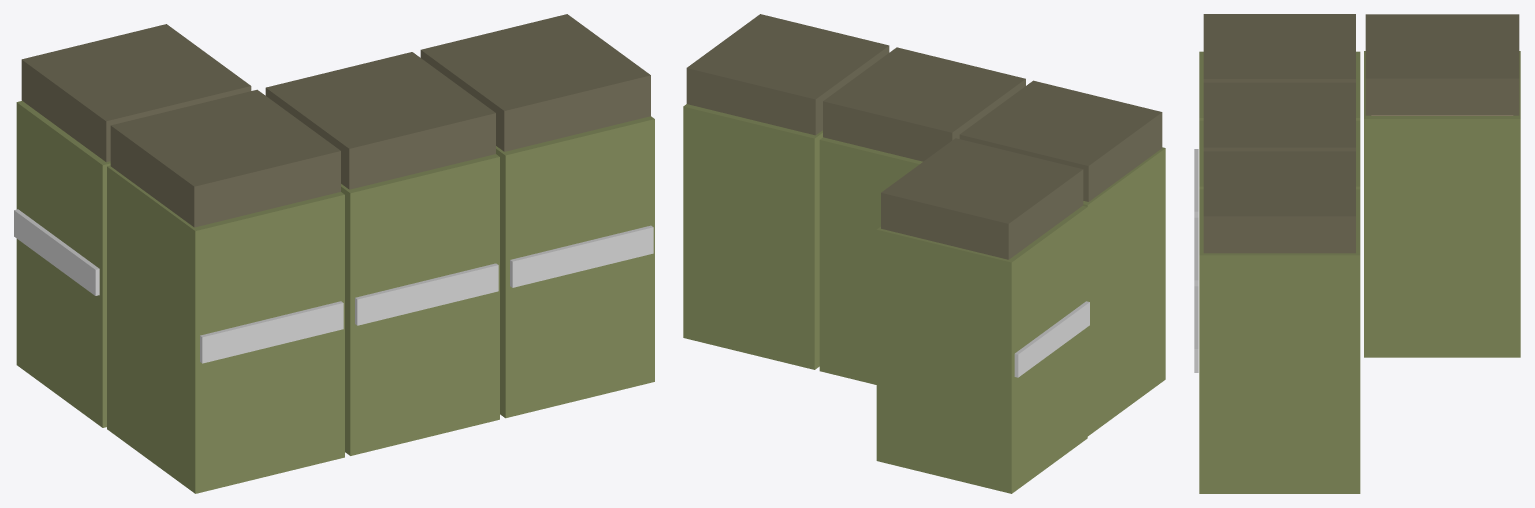
Rendered from SM_HescoRemate_v3_RemateSacos_e0_Sano_LOD1.fbx.
3 views of the same model, side by side, from view 1: azimuth 30°, elevation 25°; view 2: azimuth 150°, elevation 25°; view 3: azimuth 270°, elevation 25° (orthographic). The views are drawn at different scales.
Visible parts, largest first — view 1: SM_hesco_piezas_v32_LOD1; view 2: SM_hesco_piezas_v32_LOD1; view 3: SM_hesco_piezas_v32_LOD1.
Part boxes in pixels (x1,y1,x2,y2): SM_hesco_piezas_v32_LOD1: (14, 14, 654, 493); SM_hesco_piezas_v32_LOD1: (683, 14, 1165, 493); SM_hesco_piezas_v32_LOD1: (1194, 14, 1520, 493).
Size of the model in its own units: 3.34 by 2.09 by 2.23.
